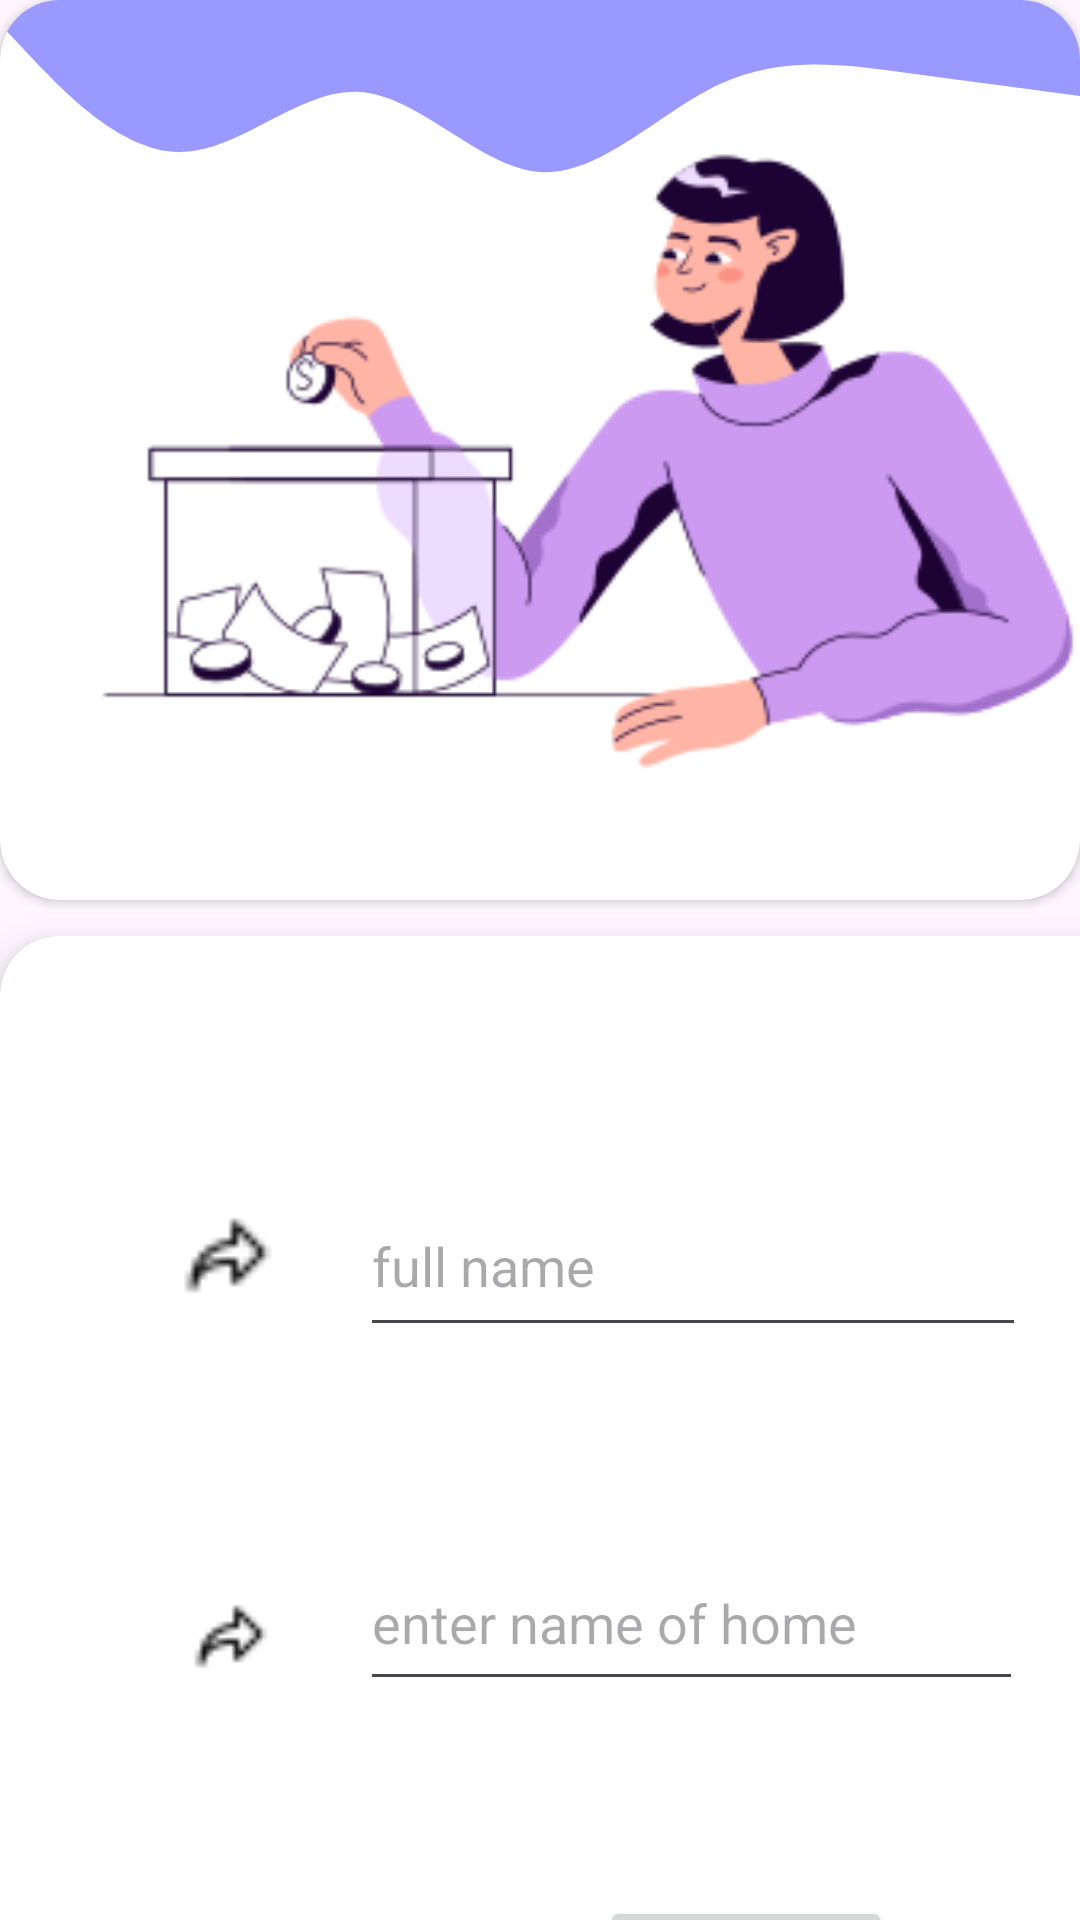

Where to tap for icons on this 1080*1920 app screen, as point (x, y):
arrow: point (227, 1255), point (230, 1636)
